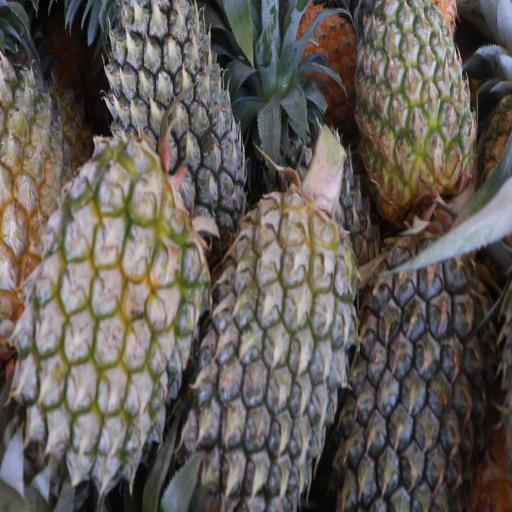------------------------------: (26, 152, 196, 480), (0, 0, 90, 331), (353, 0, 477, 208)
